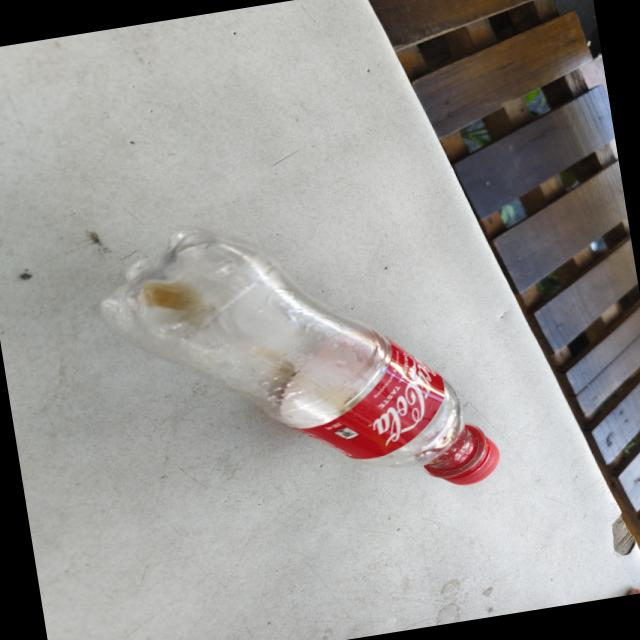Bottle: (101, 229, 499, 485)
